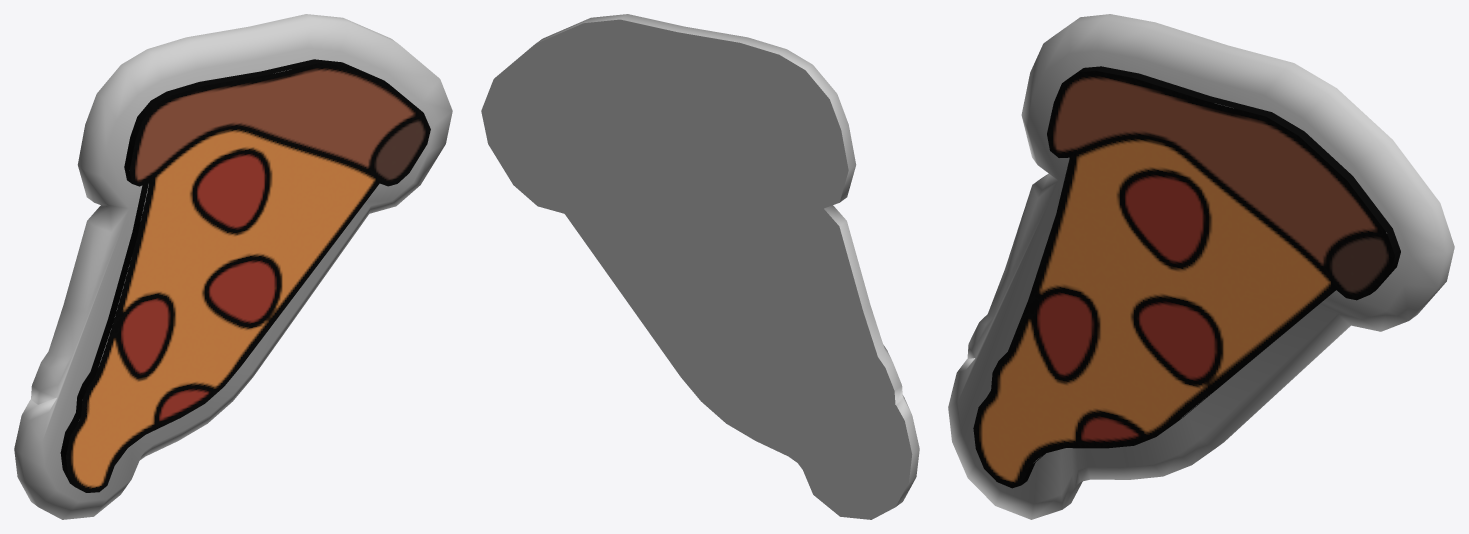
Rendered from Wooden Pizza Slice.fbx.
3 renders of one model, left to right at view 1: azimuth 30°, elevation 25°; view 2: azimuth 150°, elevation 25°; view 3: azimuth 330°, elevation 25°, orthographic. The views are drawn at different scales.
Visible parts, largest first — view 1: Plane.010; view 2: Plane.010; view 3: Plane.010.
Boxes of the visible parts, box(x1,y1,x2,y2) form: Plane.010: box(14, 14, 452, 519); Plane.010: box(481, 14, 919, 519); Plane.010: box(948, 14, 1454, 519).
Size of the model in its own units: 45.43 by 45.28 by 3.41.
